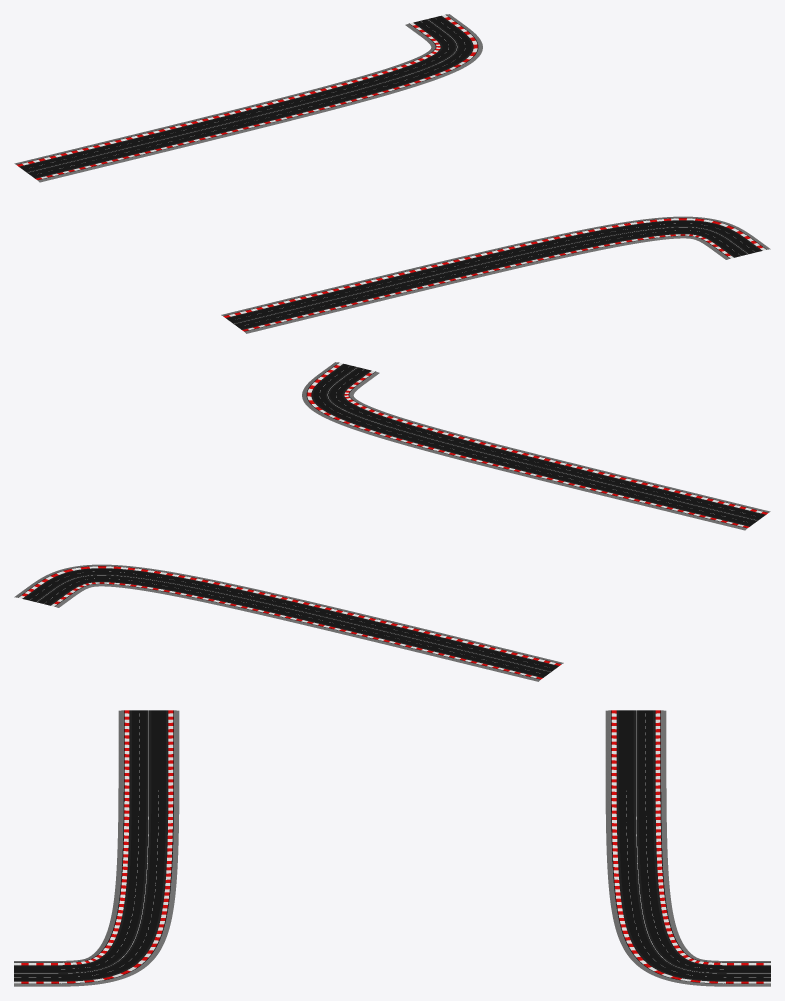
The picture shows the model from 3 angles, top to bottom: view 1: azimuth 30°, elevation 25°; view 2: azimuth 150°, elevation 25°; view 3: azimuth 270°, elevation 25°; orthographic projection. The views are drawn at different scales.
Parts seen in each view (by area): view 1: Grid, Grid.002; view 2: Grid.002, Grid; view 3: Grid, Grid.002.
Part boxes in pixels (x1,y1,x2,y2): Grid: (221, 216, 770, 333); Grid.002: (14, 14, 482, 182); Grid.002: (14, 564, 563, 681); Grid: (302, 362, 770, 530); Grid: (14, 710, 179, 986); Grid.002: (605, 710, 770, 986).
Size of the model in its own units: 268 by 0.31 by 311.
